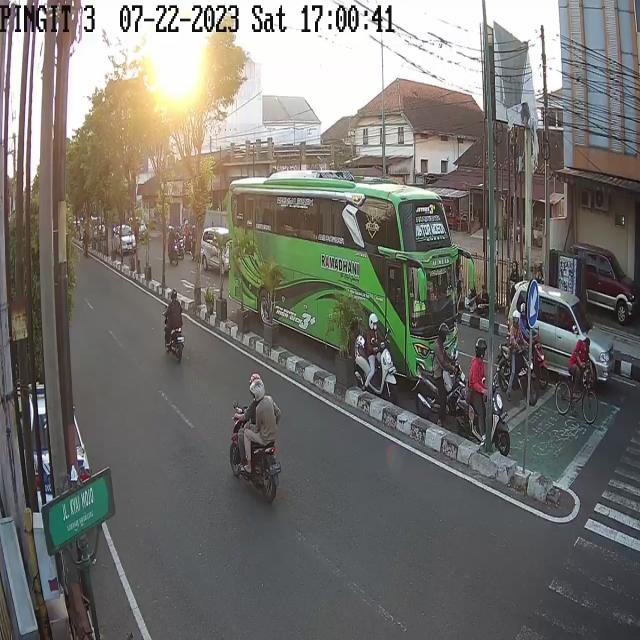bus: (220, 164, 474, 380)
car: (509, 276, 593, 389), (569, 244, 636, 328), (201, 226, 228, 269), (112, 224, 136, 253)
motorcycle: (230, 372, 281, 504), (458, 334, 504, 453), (415, 321, 463, 420), (356, 310, 395, 414), (501, 311, 533, 407), (518, 305, 546, 388), (165, 292, 185, 362), (168, 226, 180, 265)
